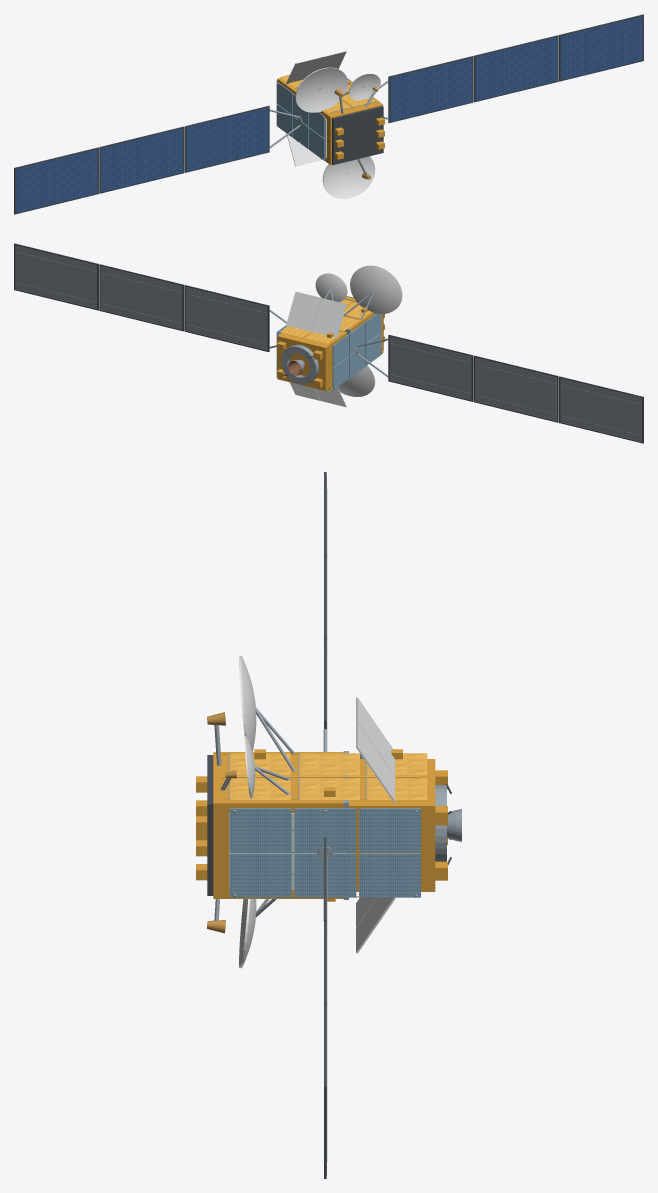
The model's file is ref-spacebus-4000c2-28638.glb.
The picture shows the model from 3 angles, top to bottom: view 1: azimuth 30°, elevation 25°; view 2: azimuth 150°, elevation 25°; view 3: azimuth 270°, elevation 25°; orthographic projection. The views are drawn at different scales.
Visible parts, largest first — view 1: Solar cell panel (×6), Communications reflector (×3), Solar panel frame (×6), Earth-facing deck, Radiator tile bay (×5), Deployed radiator leaf (×3), Payload module; view 2: Rear array substrate (×6), Communications reflector (×3), Solar panel frame (×6), Deployed radiator leaf (×4), Radiator tile bay (×6), Service module, Launch adapter ring, Payload module; view 3: Radiator tile bay (×6), Overlapping thermal blanket (×5), Payload module, Service module, Deployed radiator leaf (×2), Communications reflector, Earth-facing deck.
Boxes of the visible parts, left/top/right/bottom form: Solar cell panel (×6): left=16, top=16, right=642, bottom=213; Communications reflector (×3): left=295, top=67, right=380, bottom=198; Solar panel frame (×6): left=14, top=14, right=643, bottom=214; Earth-facing deck: left=332, top=106, right=383, bottom=164; Radiator tile bay (×5): left=276, top=81, right=325, bottom=160; Deployed radiator leaf (×3): left=286, top=51, right=346, bottom=166; Payload module: left=319, top=81, right=383, bottom=165; Rear array substrate (×6): left=15, top=245, right=641, bottom=442; Communications reflector (×3): left=315, top=265, right=402, bottom=396; Solar panel frame (×6): left=14, top=243, right=643, bottom=443; Deployed radiator leaf (×4): left=286, top=291, right=346, bottom=406; Radiator tile bay (×6): left=332, top=313, right=381, bottom=389; Service module: left=277, top=330, right=347, bottom=390; Launch adapter ring: left=281, top=344, right=318, bottom=384; Payload module: left=343, top=296, right=383, bottom=354; Radiator tile bay (×6): left=229, top=808, right=420, bottom=897; Overlapping thermal blanket (×5): left=230, top=753, right=427, bottom=799; Payload module: left=213, top=752, right=343, bottom=898; Service module: left=349, top=759, right=435, bottom=891; Deployed radiator leaf (×2): left=356, top=697, right=395, bottom=802; Communications reflector: left=239, top=656, right=256, bottom=752; Earth-facing deck: left=207, top=755, right=213, bottom=895.
Size of the model in its own units: 29.96 by 6.2 by 5.48.
11 materials, 2 textured.
